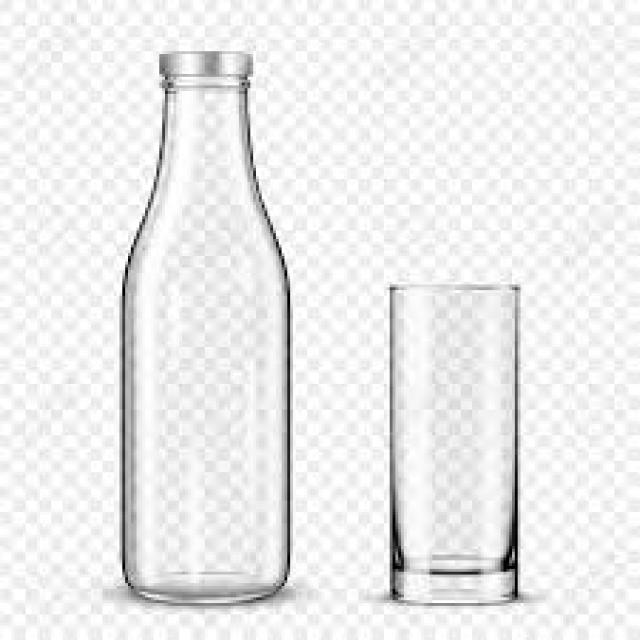Glass-Non-Biodegradable but Recyclable-: (117, 48, 294, 606), (387, 285, 521, 606)
